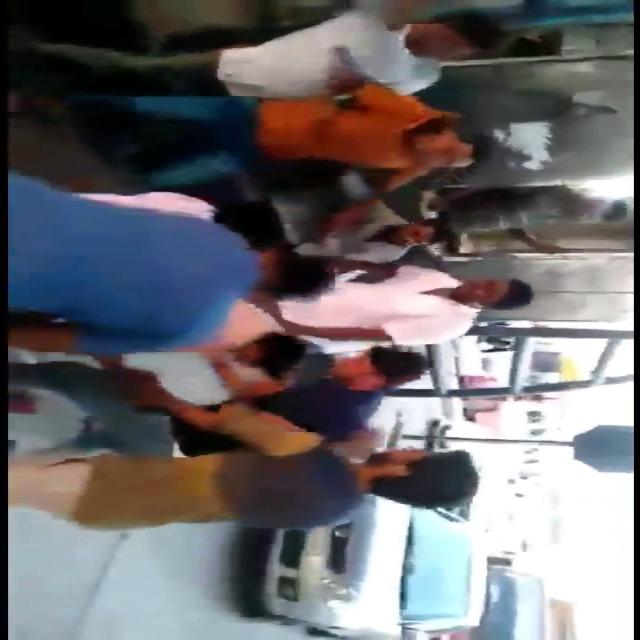Violence: (246, 90, 484, 258)
